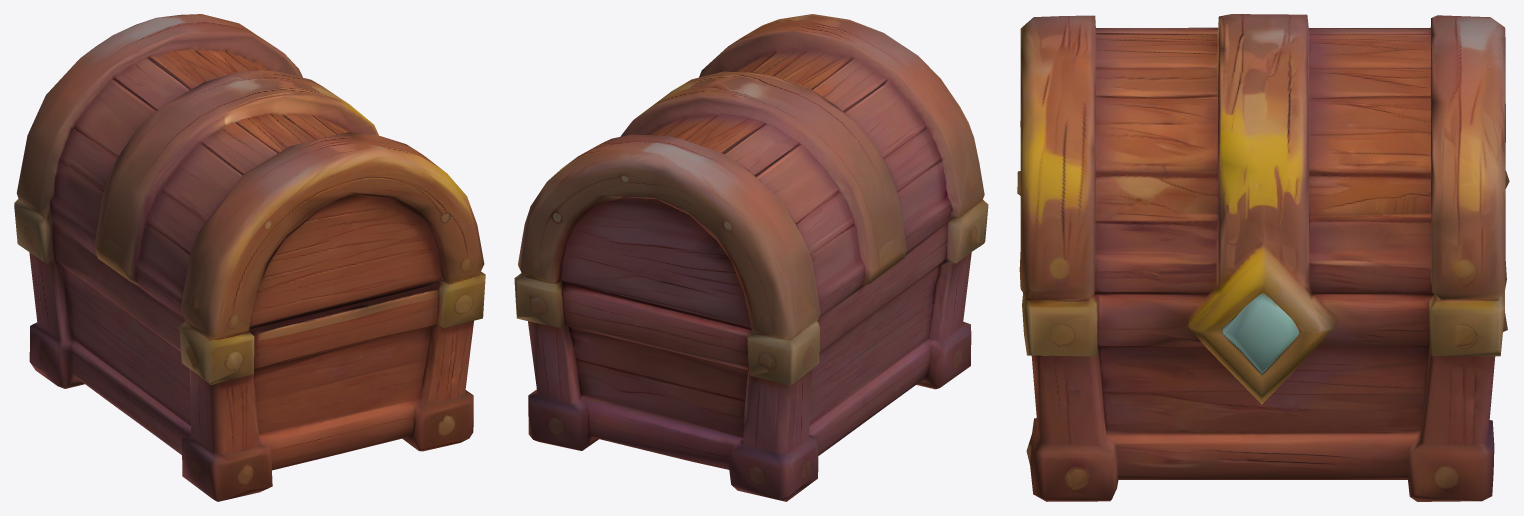
Rendered from treasure_chest.glb.
3 views of the same model, side by side, from view 1: azimuth 30°, elevation 25°; view 2: azimuth 150°, elevation 25°; view 3: azimuth 270°, elevation 25° (orthographic). The views are drawn at different scales.
Visible parts, largest first — view 1: tripo_node_ff2e2b5f; view 2: tripo_node_ff2e2b5f; view 3: tripo_node_ff2e2b5f.
Boxes of the visible parts, x1,y1,x2,y2 form: tripo_node_ff2e2b5f: [14, 14, 485, 501]; tripo_node_ff2e2b5f: [514, 14, 988, 501]; tripo_node_ff2e2b5f: [1017, 14, 1509, 501].
Size of the model in its own units: 0.8614 by 0.8821 by 1.
Materials: 1 (1 with a texture image).
